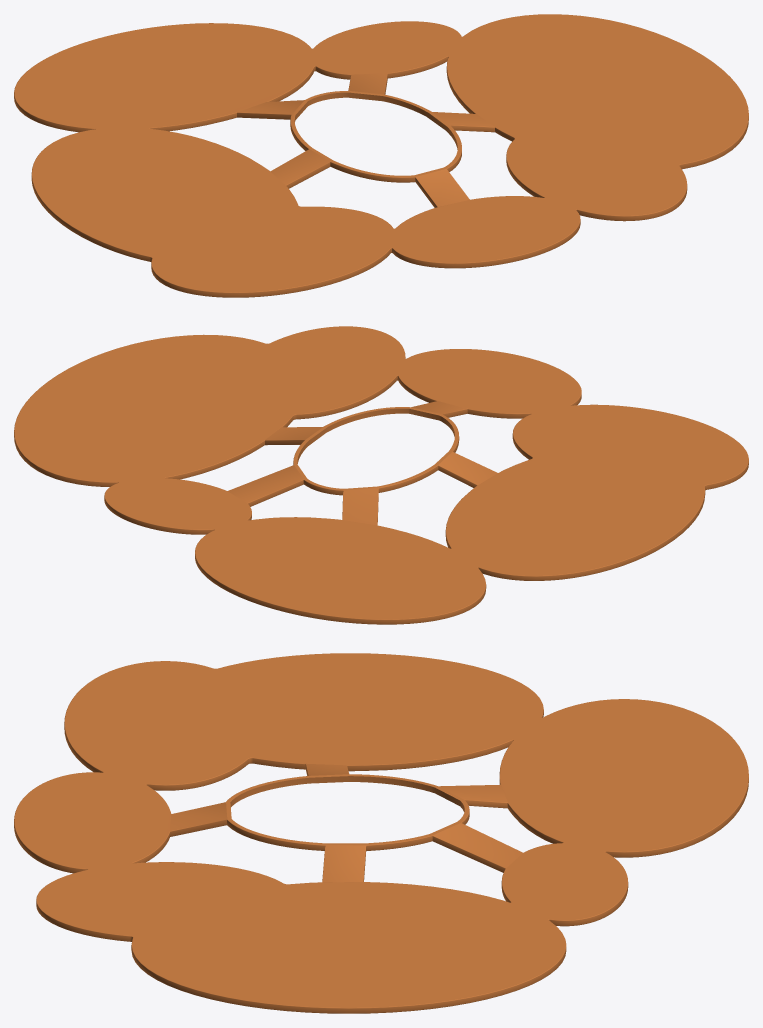
The model's file is ceiling.fbx.
The picture shows the model from 3 angles, top to bottom: view 1: azimuth 30°, elevation 25°; view 2: azimuth 150°, elevation 25°; view 3: azimuth 270°, elevation 25°; orthographic projection. The views are drawn at different scales.
Visible parts, largest first — view 1: FINALv2_ceiling.005; view 2: FINALv2_ceiling.005; view 3: FINALv2_ceiling.005.
Boxes of the visible parts, <box> form: FINALv2_ceiling.005: <box>14,14,748,297</box>; FINALv2_ceiling.005: <box>14,326,748,624</box>; FINALv2_ceiling.005: <box>14,653,748,1013</box>.
Bounding box in the file's own units: 10337 × 258 × 9042.
